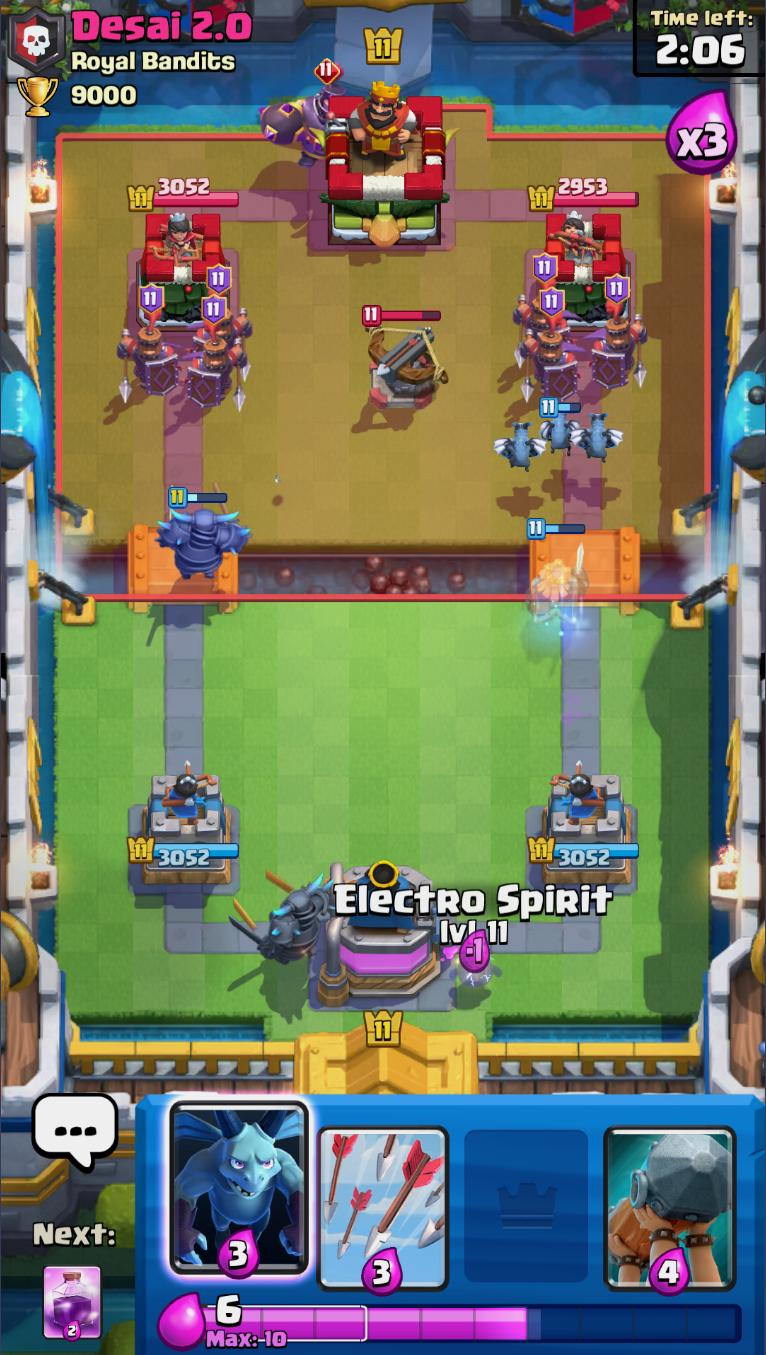ArrowDeck: (311, 1099, 454, 1296)
BattleRamDeck: (599, 1094, 741, 1296)
Elixir: (201, 1296, 741, 1351)
Empty: (456, 1096, 597, 1294)
EnemyTower: (136, 211, 234, 331), (538, 209, 632, 333), (129, 178, 239, 212), (529, 178, 640, 211)
EvoMegaKnight: (257, 59, 344, 169)
EvoRoyalRecruit: (115, 282, 182, 409), (182, 293, 248, 415), (516, 287, 581, 404), (193, 265, 252, 382), (515, 252, 572, 371), (592, 275, 649, 392)
KingTower: (311, 79, 459, 246)
MinionsDeck: (164, 1096, 313, 1294)
MyKingTower: (317, 860, 460, 1007)
MyMinion: (540, 396, 584, 457), (573, 409, 624, 461), (494, 417, 539, 469)
MyPekka: (229, 869, 336, 966), (156, 485, 253, 582)
MyPrincessTower: (129, 771, 240, 889), (531, 773, 639, 889)
MyPrincessTowerHP: (126, 836, 241, 867), (531, 835, 640, 866)
MyRoyaleGhost: (521, 520, 590, 631)
PrincessTower: (550, 211, 605, 264), (149, 213, 204, 264)
RageNext: (41, 1263, 103, 1343)
XBow: (354, 303, 457, 409)
